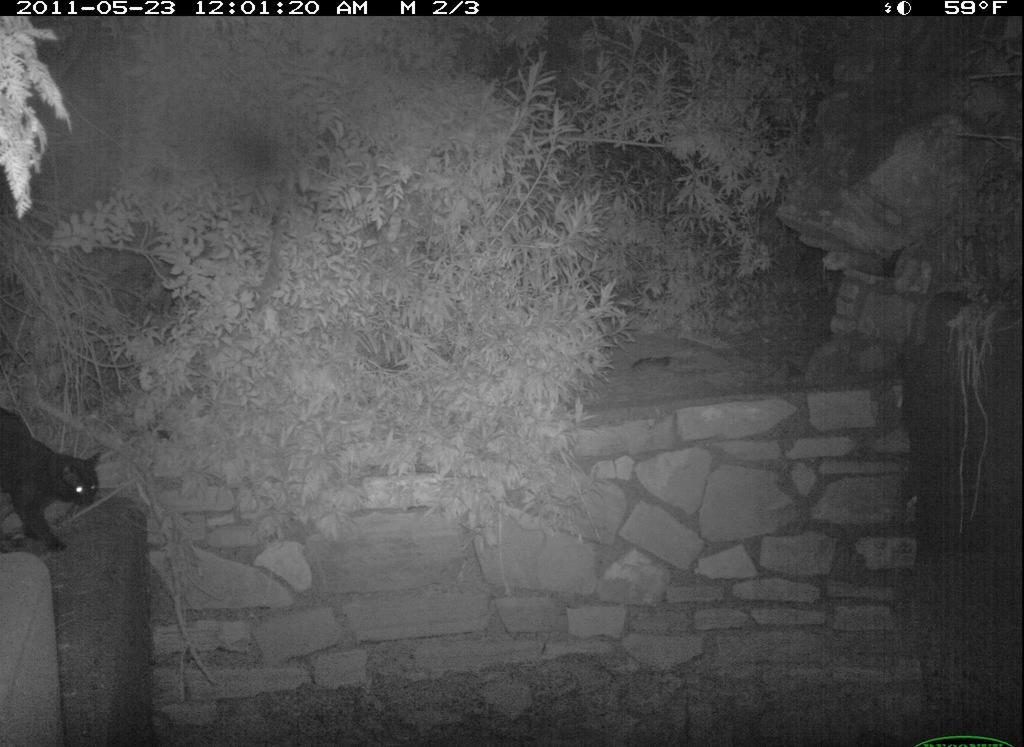cat: (3, 383, 116, 565)
